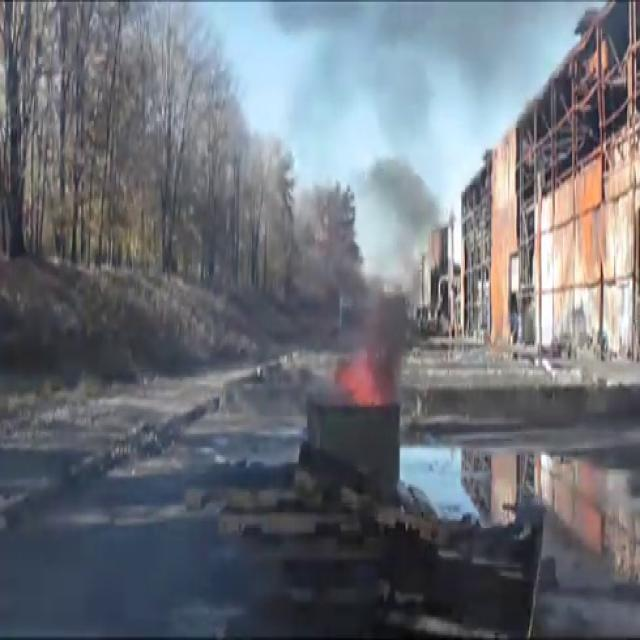Smoke: (296, 103, 446, 384)
